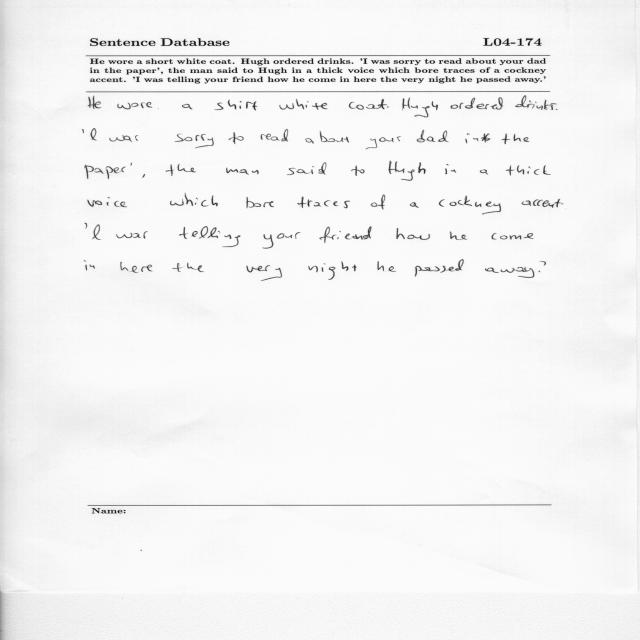word: (179, 226, 241, 247), (439, 196, 501, 215), (308, 261, 357, 280), (320, 226, 372, 243), (415, 260, 464, 277), (389, 161, 426, 181), (402, 98, 438, 118), (451, 97, 503, 110), (263, 232, 301, 249), (170, 194, 218, 207), (515, 96, 557, 110), (175, 134, 214, 149), (297, 197, 350, 208), (246, 265, 282, 281), (85, 165, 126, 179), (305, 131, 349, 144), (485, 267, 534, 278), (279, 99, 327, 110), (287, 162, 327, 175), (506, 165, 551, 176), (215, 100, 257, 111), (366, 136, 401, 149), (349, 99, 387, 110), (396, 228, 430, 240), (88, 197, 127, 207), (417, 130, 449, 142), (120, 262, 153, 273), (166, 164, 196, 176), (522, 199, 562, 208), (261, 129, 288, 142), (172, 262, 204, 272), (246, 197, 274, 208), (117, 102, 159, 109), (492, 233, 534, 240), (502, 134, 529, 144), (116, 231, 148, 239), (465, 134, 490, 144), (226, 168, 259, 175), (371, 195, 385, 210), (377, 261, 396, 272), (110, 135, 139, 142), (229, 132, 244, 144), (88, 96, 101, 109), (351, 165, 365, 176), (92, 224, 101, 240), (450, 232, 467, 240), (84, 260, 95, 271), (445, 164, 456, 174), (90, 129, 97, 141), (410, 202, 419, 208), (182, 104, 192, 109), (480, 170, 488, 175), (540, 261, 546, 266), (143, 174, 146, 178), (85, 223, 87, 229), (82, 129, 84, 134), (387, 106, 389, 108), (131, 163, 132, 166), (556, 109, 558, 110), (562, 204, 564, 205), (538, 271, 540, 272)
